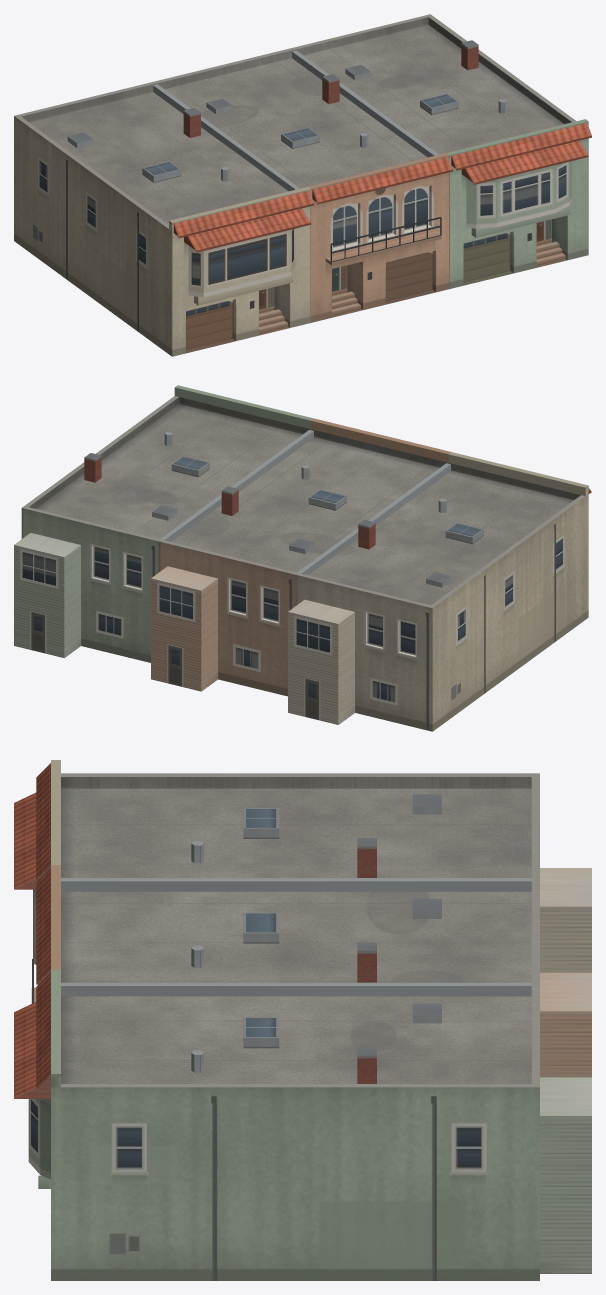
Rendered from sf_victorian_e.glb.
3 renders of one model, top to bottom at view 1: azimuth 30°, elevation 25°; view 2: azimuth 150°, elevation 25°; view 3: azimuth 270°, elevation 25°, orthographic. The views are drawn at different scales.
Parts seen in each view (by area): view 1: sf_victorian_e; view 2: sf_victorian_e; view 3: sf_victorian_e.
Boxes of the visible parts, box(x1,y1,x2,y2) form: sf_victorian_e: box(14, 14, 591, 356); sf_victorian_e: box(14, 385, 591, 731); sf_victorian_e: box(14, 760, 591, 1280).
Bounding box in the file's own units: 22.8 × 7.35 × 17.74.
1 material, 1 textured.
